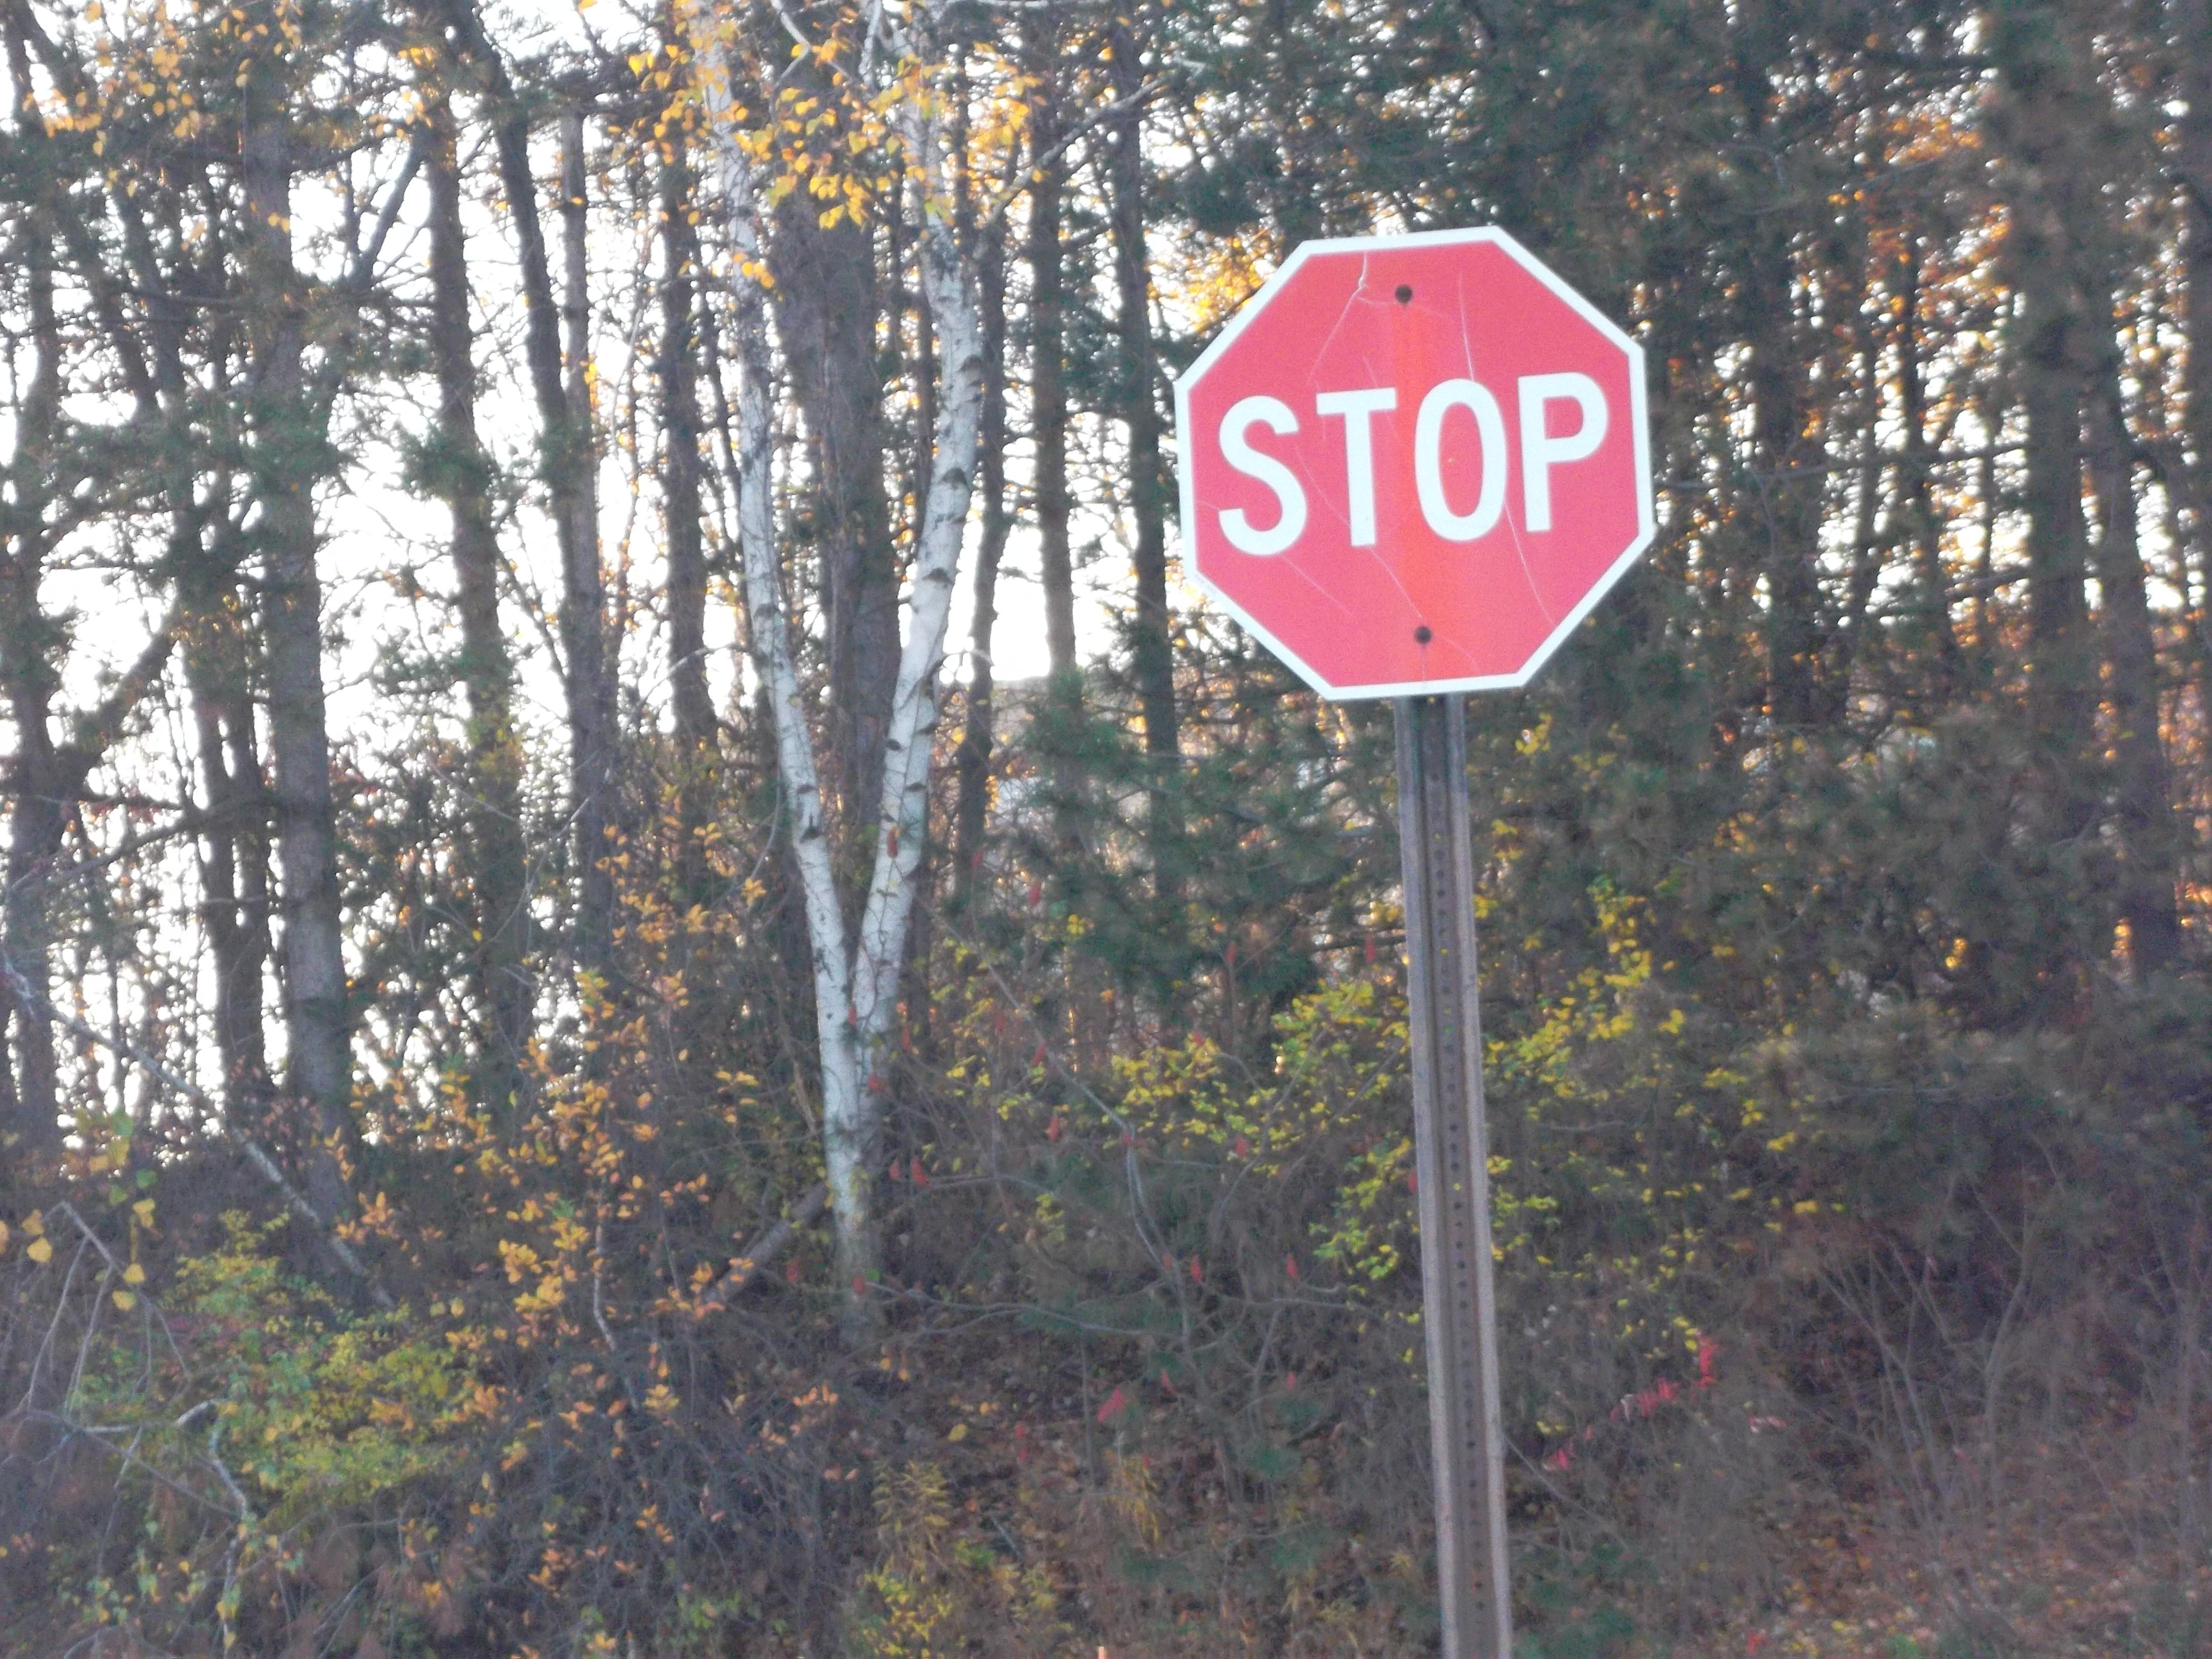stop: (1167, 221, 1669, 714)
